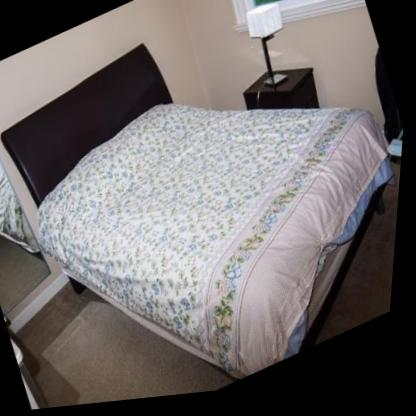Bed: (0, 46, 401, 383)
Carpet: (19, 283, 245, 410)
